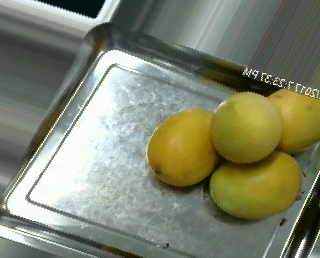Mango: (209, 149, 301, 220), (146, 110, 222, 188), (210, 93, 282, 163), (266, 90, 320, 150)
